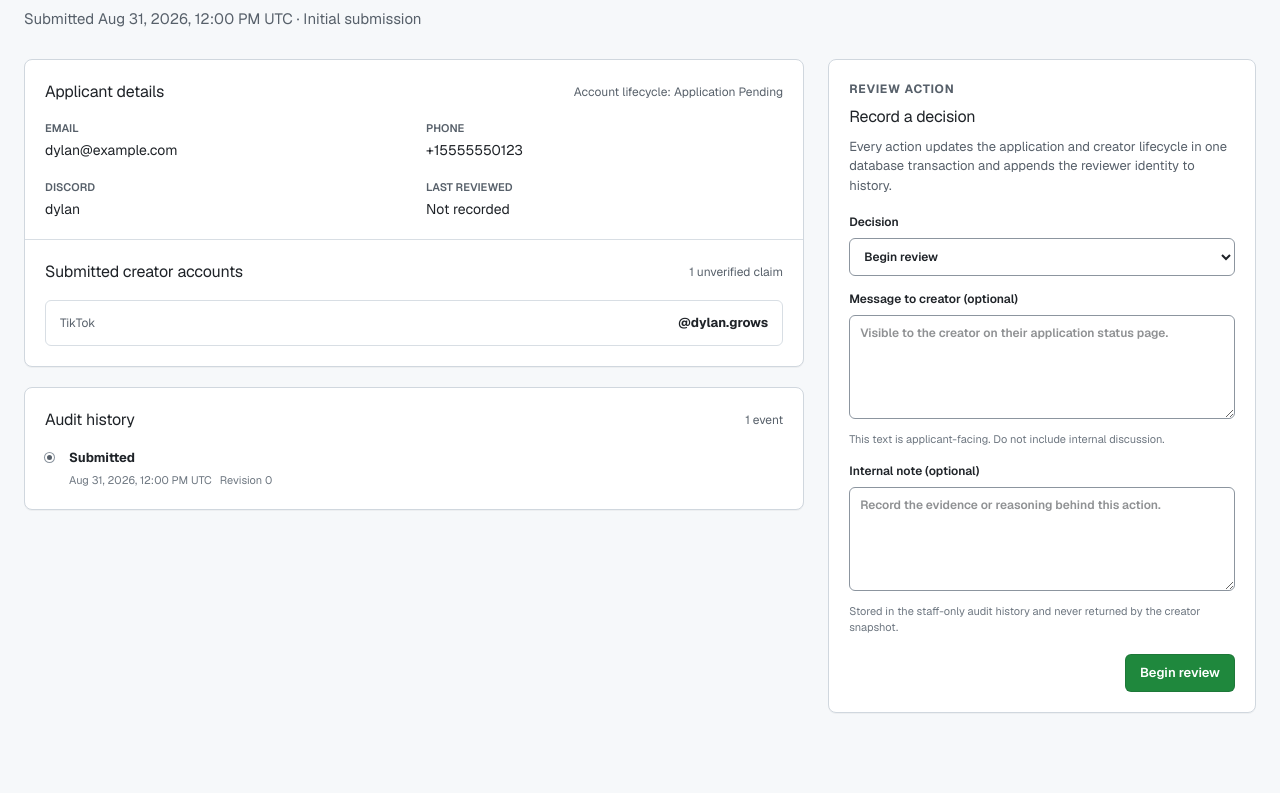
Scenario: admin application review pages › renders detail, audit history, and a working review mutation form
(page scrolled)
Expected: the text "@dylan.grows" is shown, x1=678 y1=314 x2=768 y2=333
Expected: the heading "Audit history" is shown, x1=45 y1=408 x2=135 y2=432
Step 1. Click the button "Begin review" → [1180, 673], box x1=1125 y1=654 x2=1235 y2=692
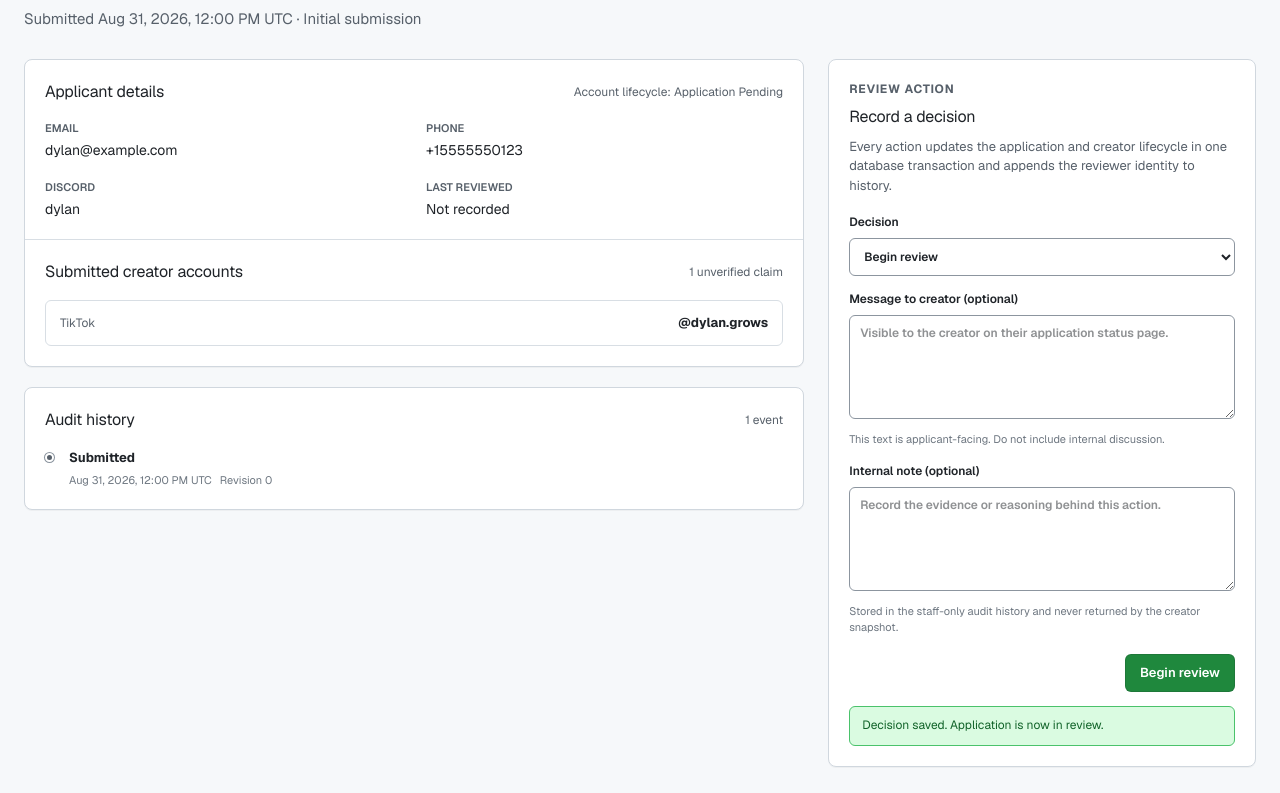
Result: the message shows "now in review" at x1=862 y1=717 x2=1103 y2=733
